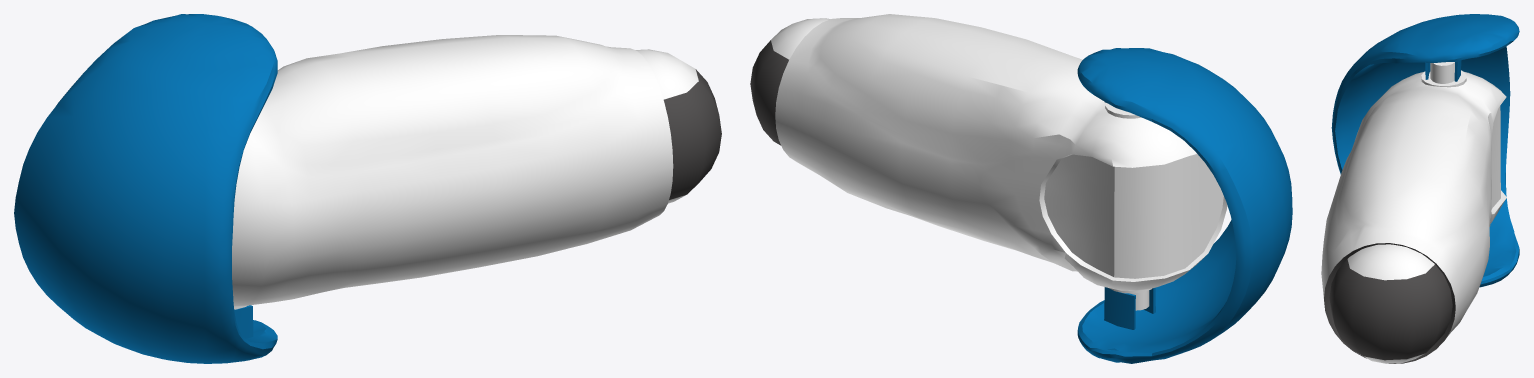
The model's file is RShoulderRoll.dae.
3 views of the same model, side by side, from view 1: azimuth 30°, elevation 25°; view 2: azimuth 150°, elevation 25°; view 3: azimuth 270°, elevation 25° (orthographic). The views are drawn at different scales.
Parts seen in each view (by area): view 1: RShoulderRoll; view 2: RShoulderRoll; view 3: RShoulderRoll.
Part boxes in pixels (x1,y1,x2,y2): RShoulderRoll: (14, 14, 721, 363); RShoulderRoll: (750, 14, 1292, 363); RShoulderRoll: (1321, 14, 1519, 363).
Bounding box in the file's own units: 1.7 × 0.5942 × 0.8169.
1 material, 1 textured.
